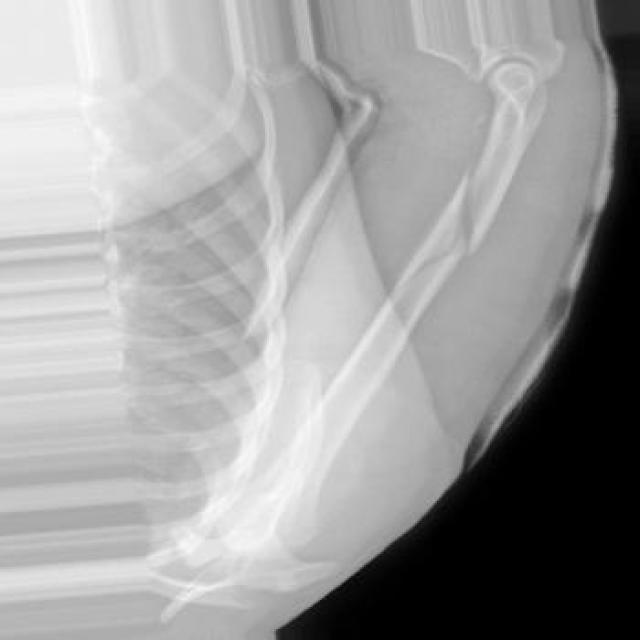Fracture: (436, 155, 497, 264)
